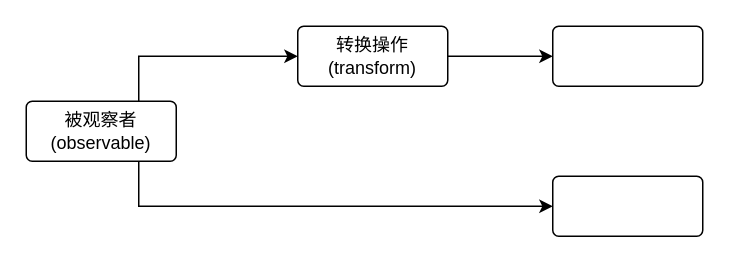
This 729x263 diagram has some shape labels left out. The shapes that lost their labels are listed below. From the top down, each one's centre as x and y in pixels, then its label:
At point (627, 55): "观察者 A (observer A)".
At point (627, 205): "观察者 B (observer B)".
